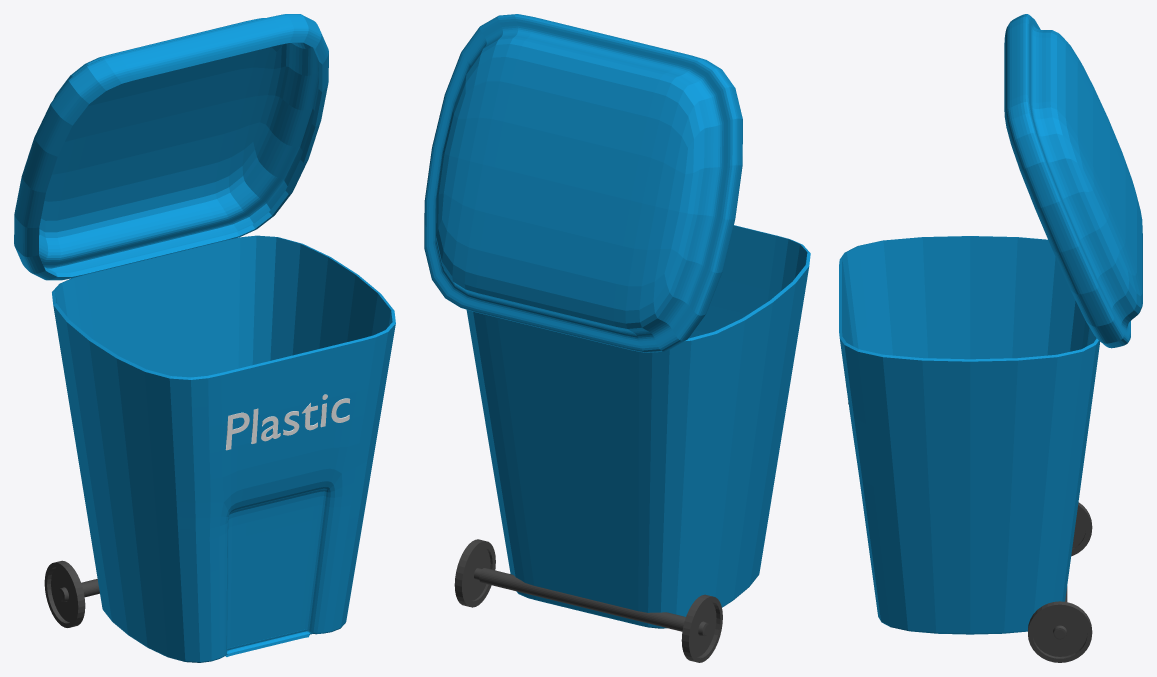
The model's file is Recycling_Plastic_Bin.fbx.
3 renders of one model, left to right at view 1: azimuth 30°, elevation 25°; view 2: azimuth 150°, elevation 25°; view 3: azimuth 270°, elevation 25°, orthographic. The views are drawn at different scales.
Parts seen in each view (by area): view 1: Cube, Cube.001, Cylinder.001, Text; view 2: Cube.001, Cube, Cylinder.001, Cylinder; view 3: Cube, Cube.001, Cylinder.001.
Part boxes in pixels (x1,y1,x2,y2): Cube: [52, 235, 395, 662]; Cube.001: [14, 14, 328, 280]; Cylinder.001: [44, 560, 85, 627]; Text: [225, 394, 350, 450]; Cube.001: [424, 14, 742, 352]; Cube: [466, 225, 810, 628]; Cylinder.001: [454, 539, 722, 662]; Cylinder: [479, 568, 685, 631]; Cube: [839, 236, 1100, 634]; Cube.001: [1004, 14, 1142, 348]; Cylinder.001: [1028, 502, 1092, 662].
Size of the model in its own units: 184 by 345 by 173.
